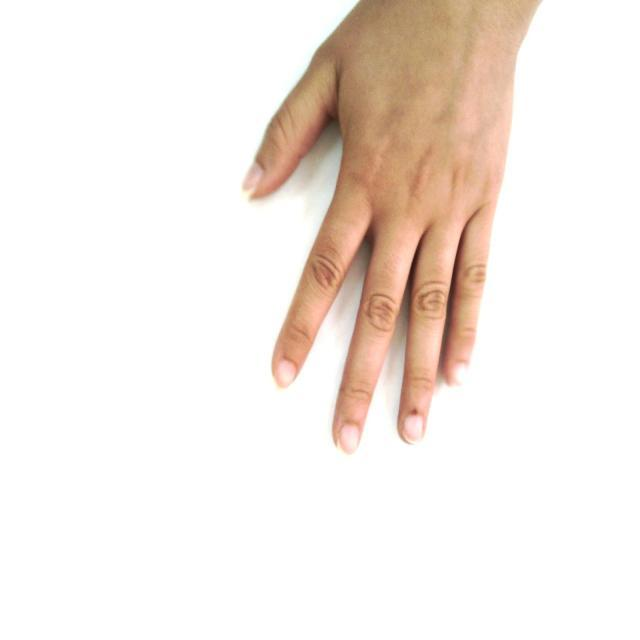Fingernail: (340, 424, 359, 453), (403, 415, 423, 442), (243, 164, 262, 192), (276, 361, 295, 388), (450, 364, 466, 386)
